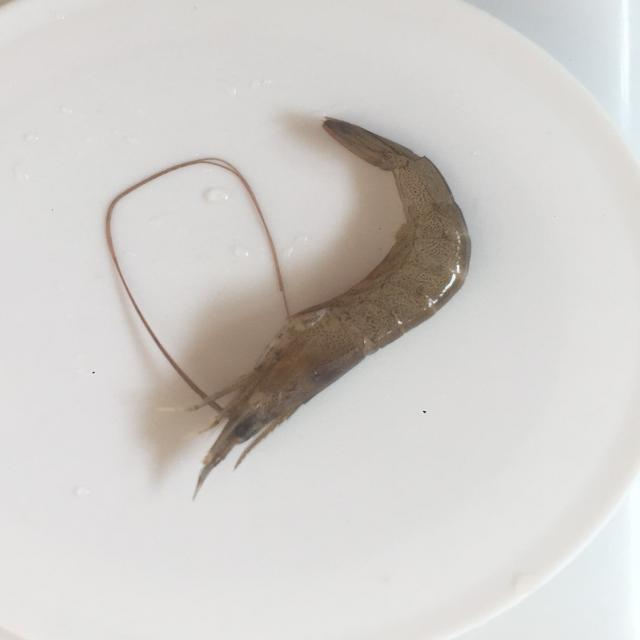shrimp: (194, 118, 471, 494)
